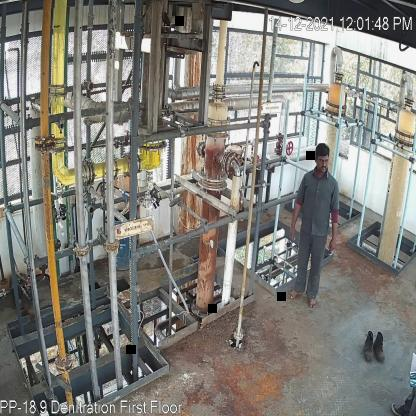no_shoes: (286, 289, 303, 299), (306, 297, 317, 311)
shoes: (362, 330, 377, 363), (374, 332, 386, 361)
